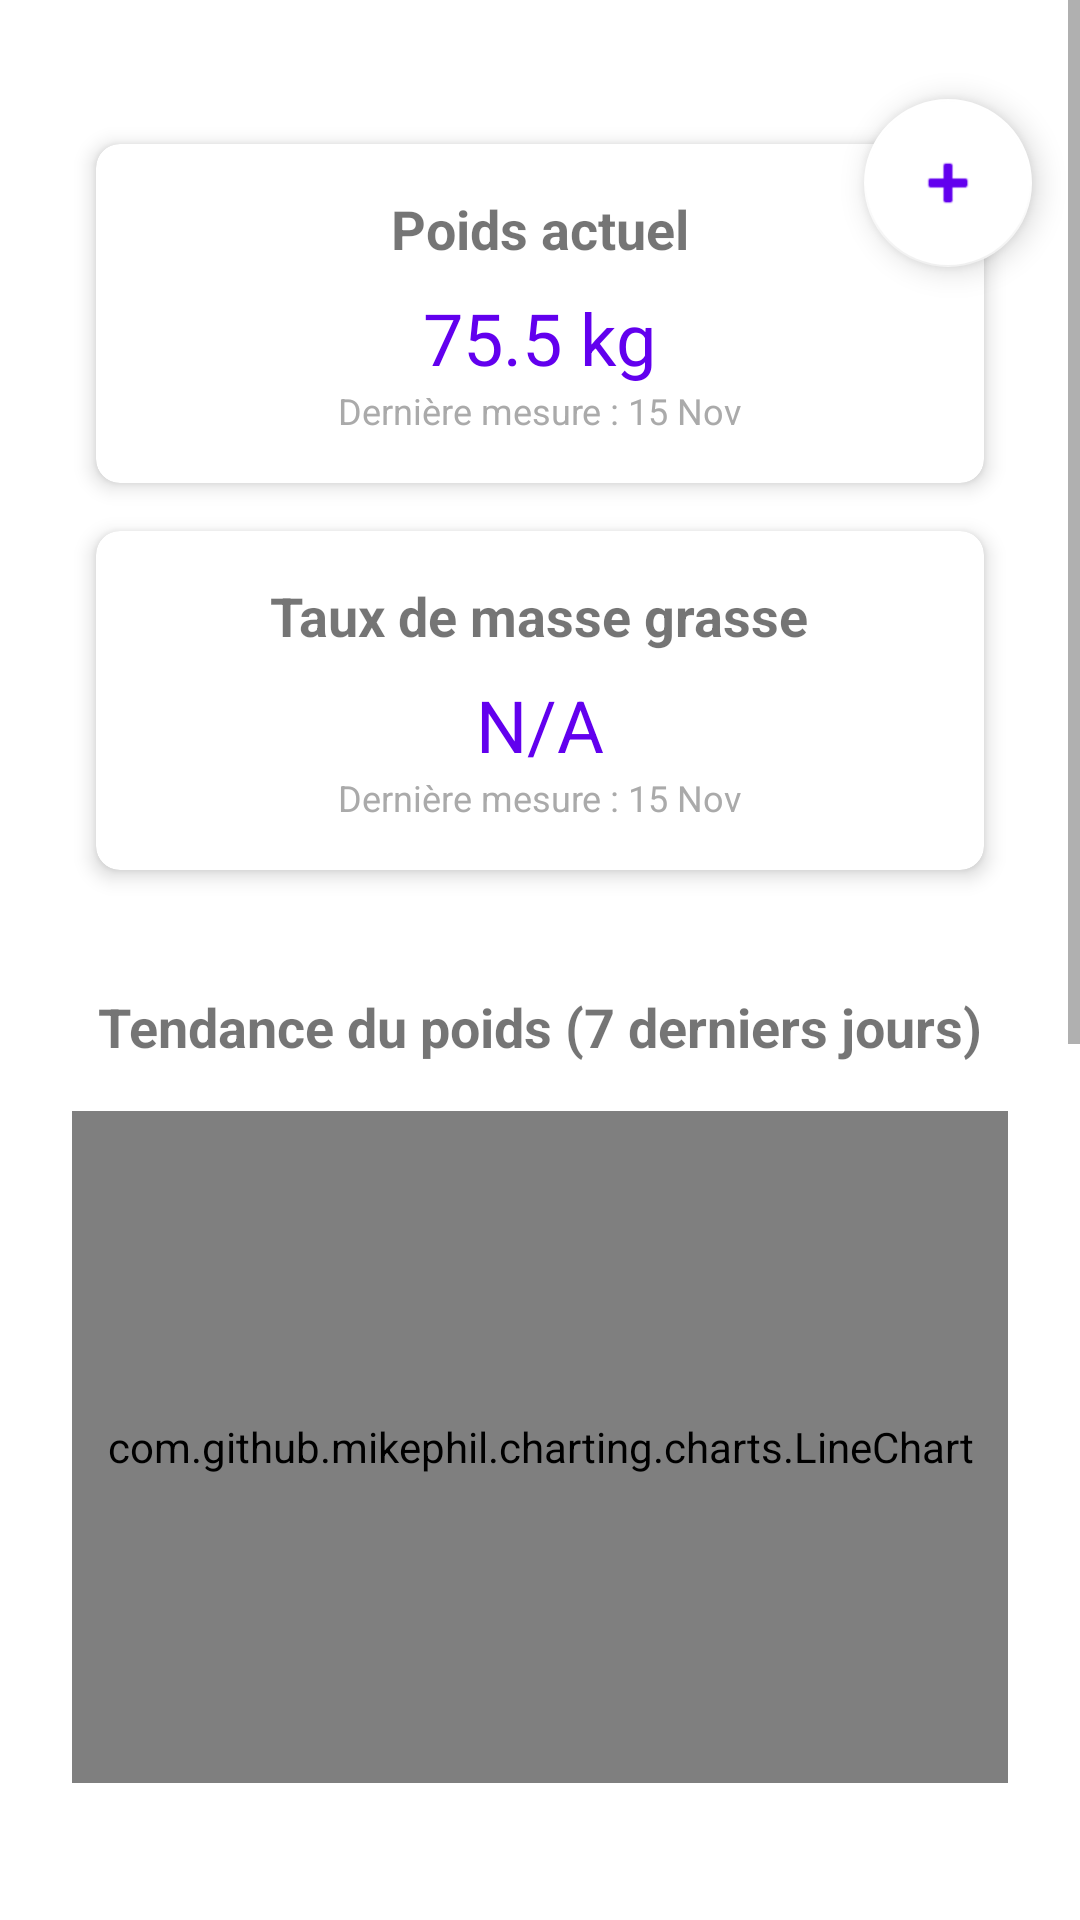

Named icons in this screenshot (1080×1920) and their bounding boxes, (x1, y1, x2, y2):
add: (864, 118, 1003, 267)
